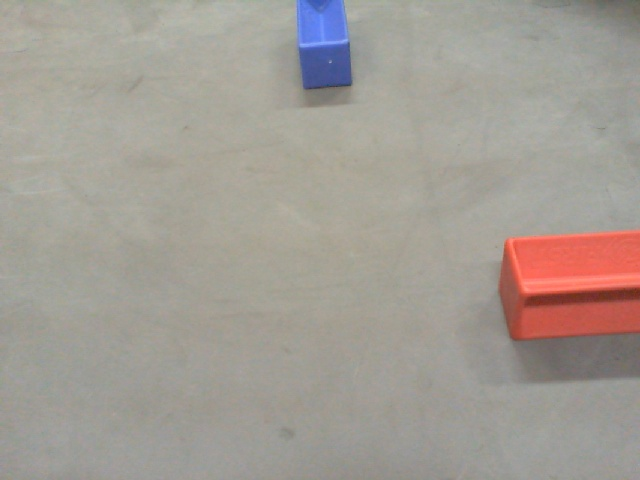BlueSample: (296, 1, 350, 96)
RedSample: (490, 228, 640, 343)
